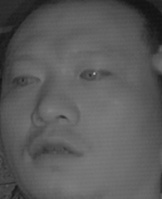eye: (7, 68, 41, 91), (77, 63, 110, 84)
mouth: (29, 130, 85, 167)
